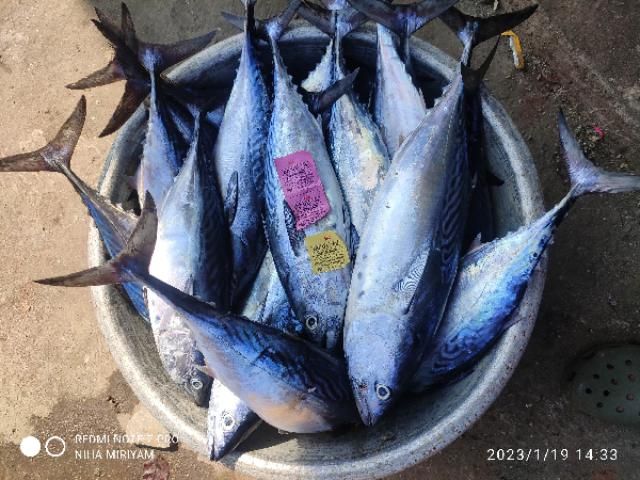Mulut: (191, 428, 251, 476), (354, 389, 401, 442), (172, 372, 215, 418)
Sirip Dada: (274, 200, 318, 260), (219, 165, 247, 227)
Sirip Ekor: (22, 186, 168, 306), (546, 101, 640, 210), (96, 0, 218, 80), (6, 94, 100, 194), (440, 1, 524, 52)
